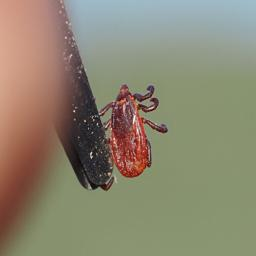Rhipicephalus sanguineus: (95, 84, 168, 193)
